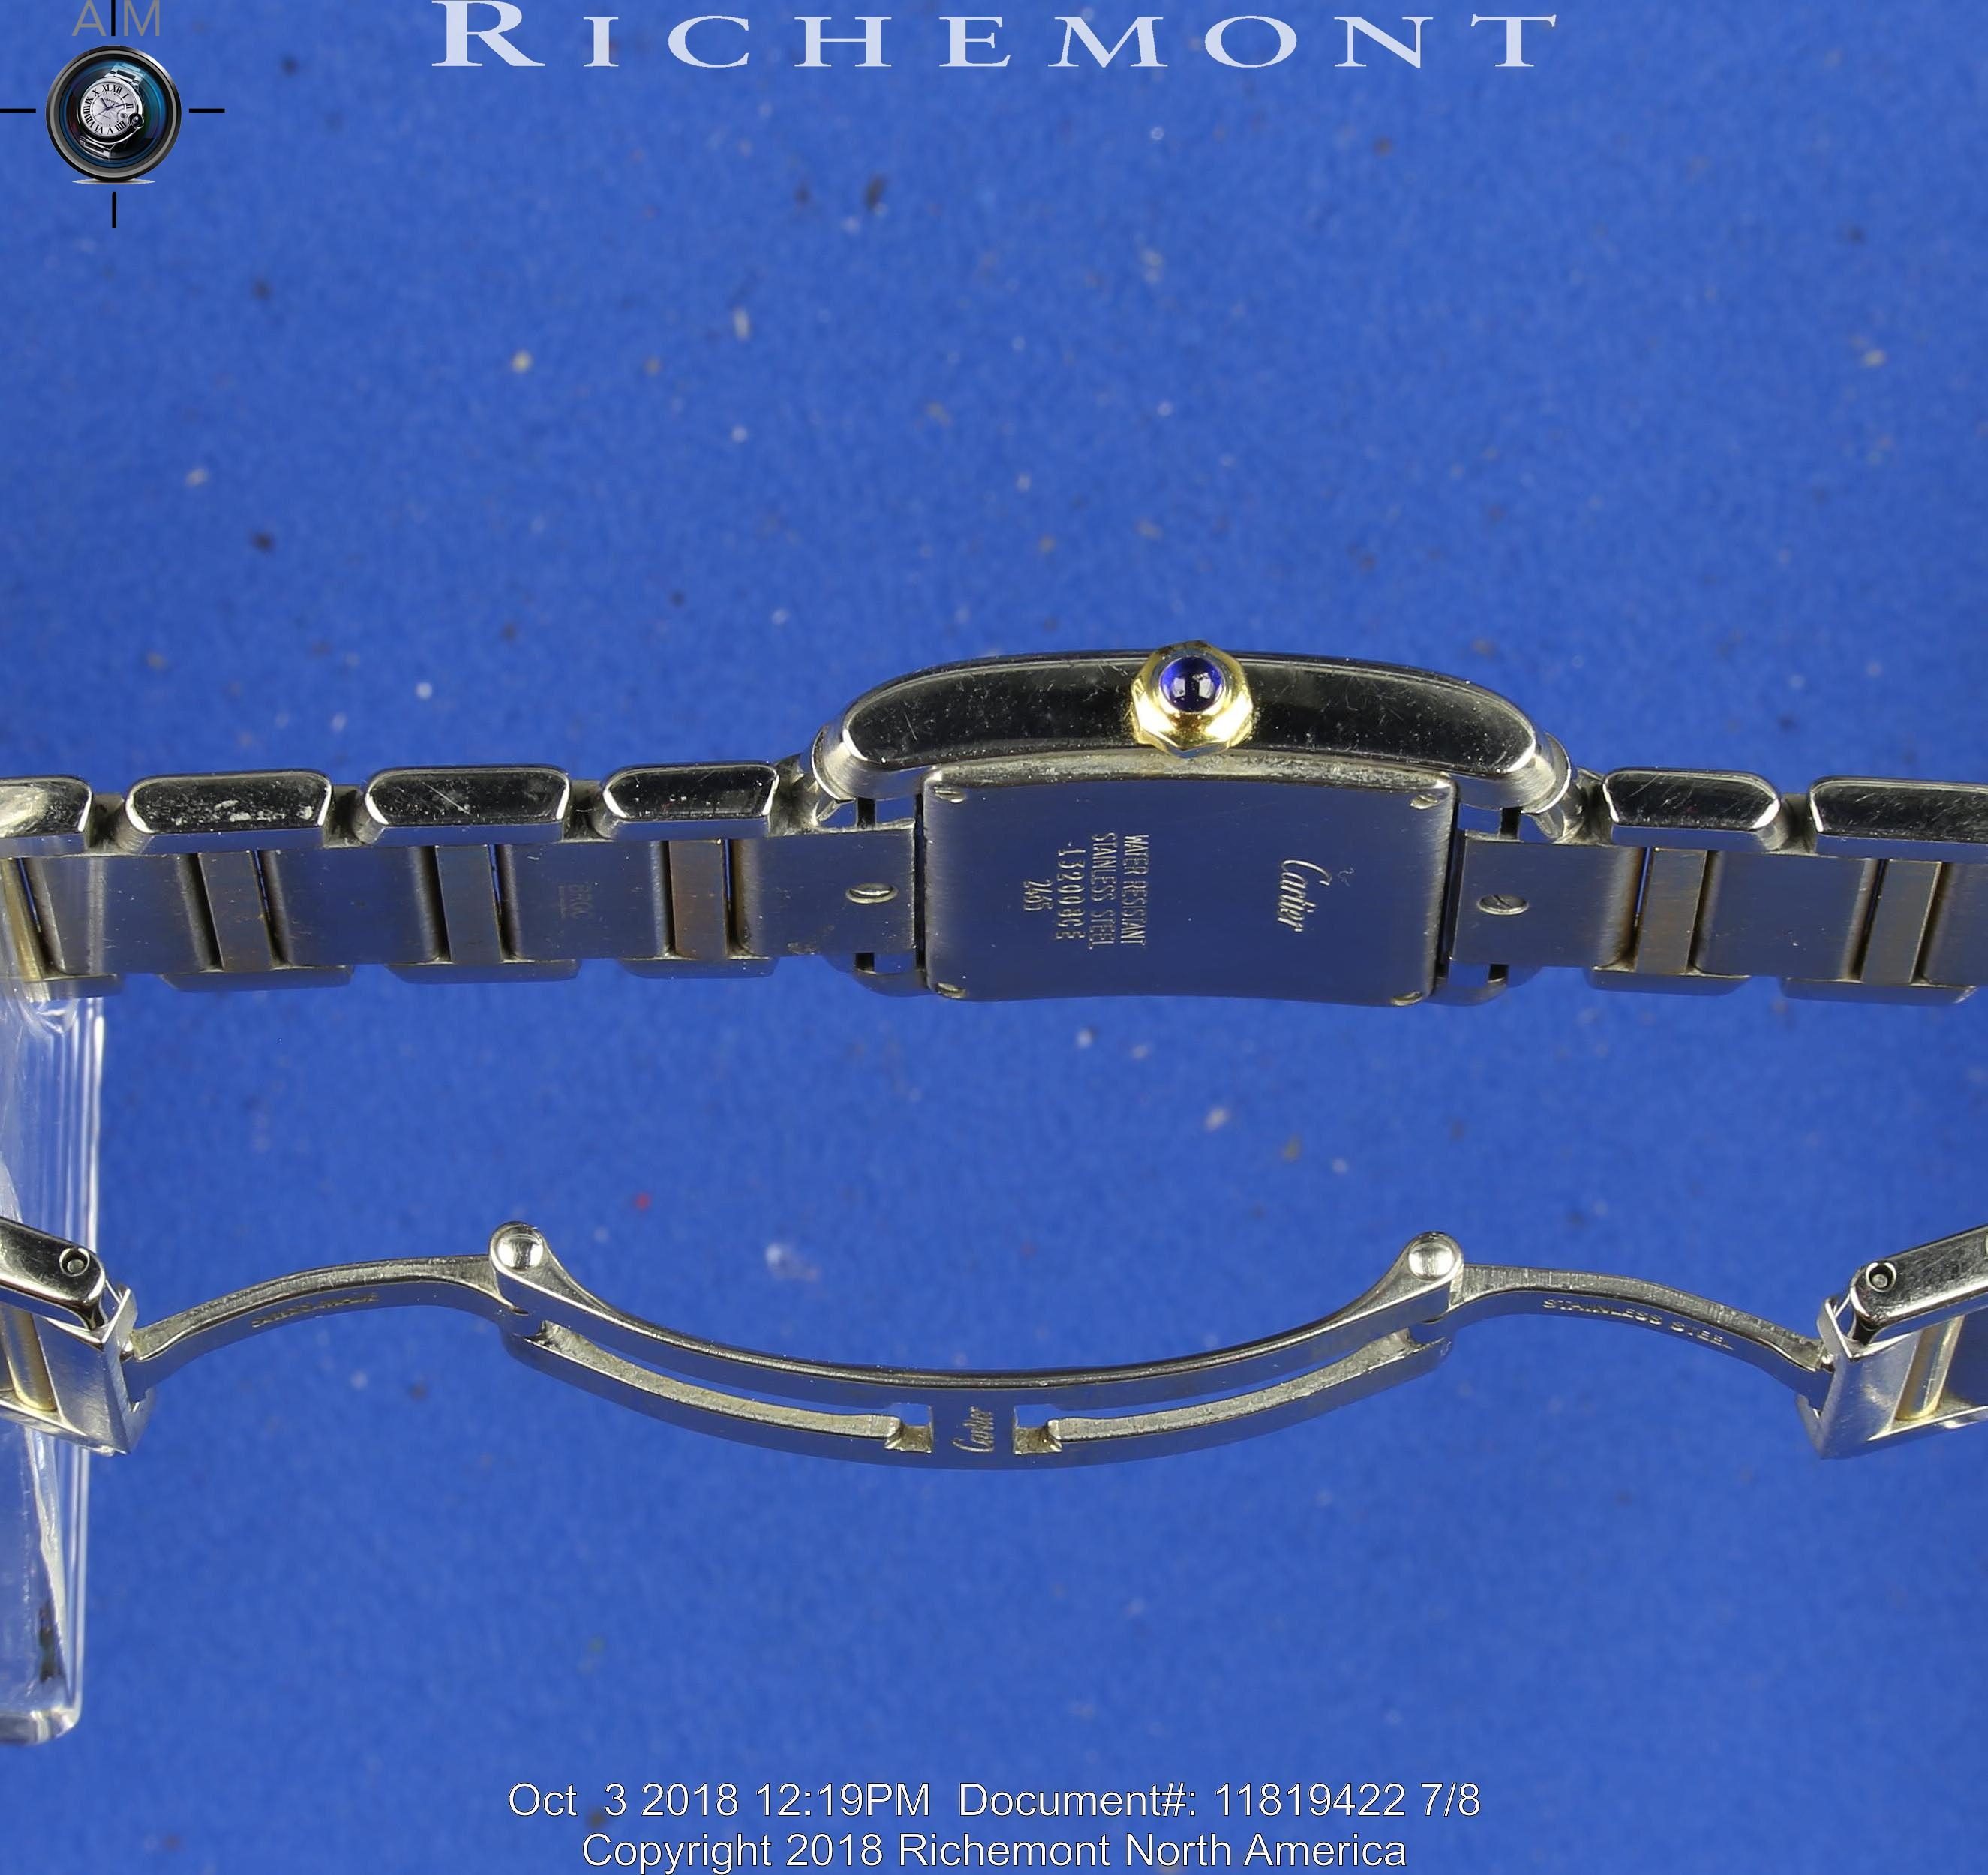watchback: (770, 721, 1565, 1096)
